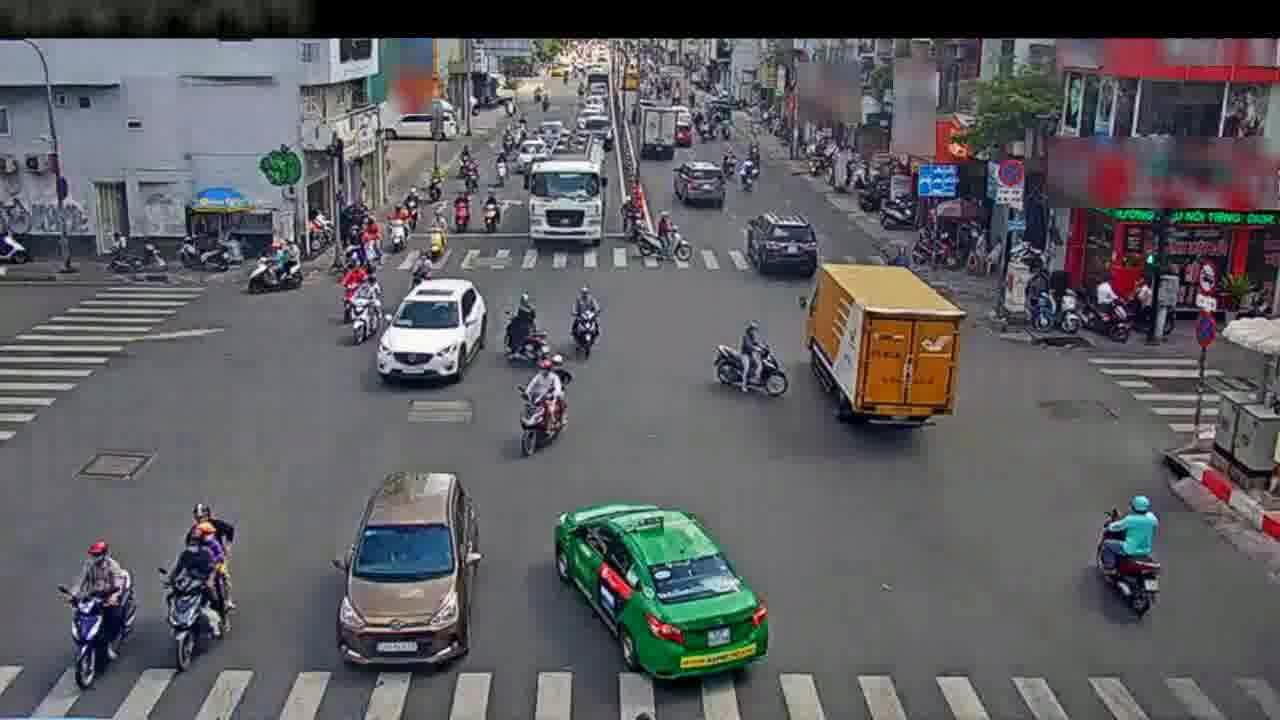8: (809, 268, 969, 422), (524, 133, 605, 253), (633, 106, 676, 163), (576, 85, 609, 141)
container: (550, 501, 777, 679), (336, 469, 472, 677), (386, 274, 483, 379), (745, 210, 821, 279), (669, 160, 724, 210), (386, 101, 443, 145), (653, 113, 690, 152)
motorbike: (65, 528, 137, 683), (161, 506, 231, 665), (1098, 493, 1157, 618), (713, 313, 782, 403), (520, 355, 564, 458), (254, 233, 307, 298), (502, 294, 547, 370), (642, 207, 688, 267), (569, 281, 600, 365), (349, 278, 383, 346), (620, 196, 650, 252), (478, 183, 505, 243), (341, 257, 368, 314), (447, 188, 476, 241), (390, 196, 415, 255), (422, 216, 446, 276), (2, 215, 24, 276), (342, 227, 366, 262), (737, 153, 756, 195), (363, 218, 383, 256)
